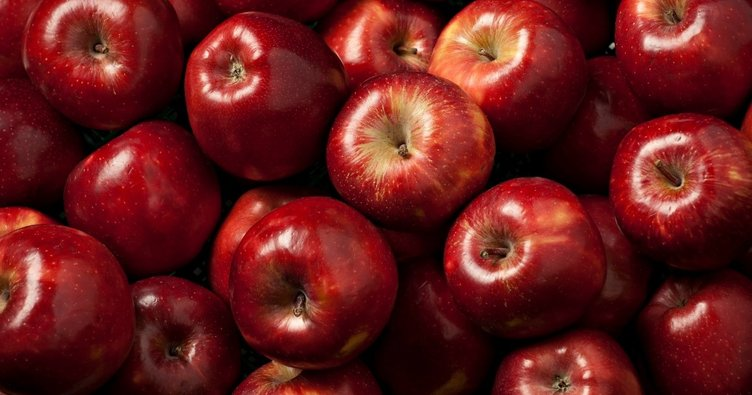apple: (225, 194, 403, 369)
